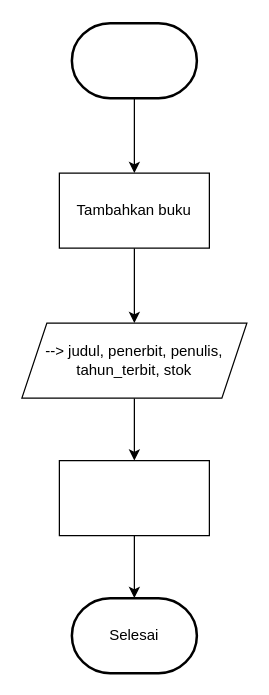
Image size: 269x695. Some labels were removed from this diagram. Each missing label, with the centre of its shape:
Buku baru ditambahkan: [133,497]
Mulai: [134,60]
